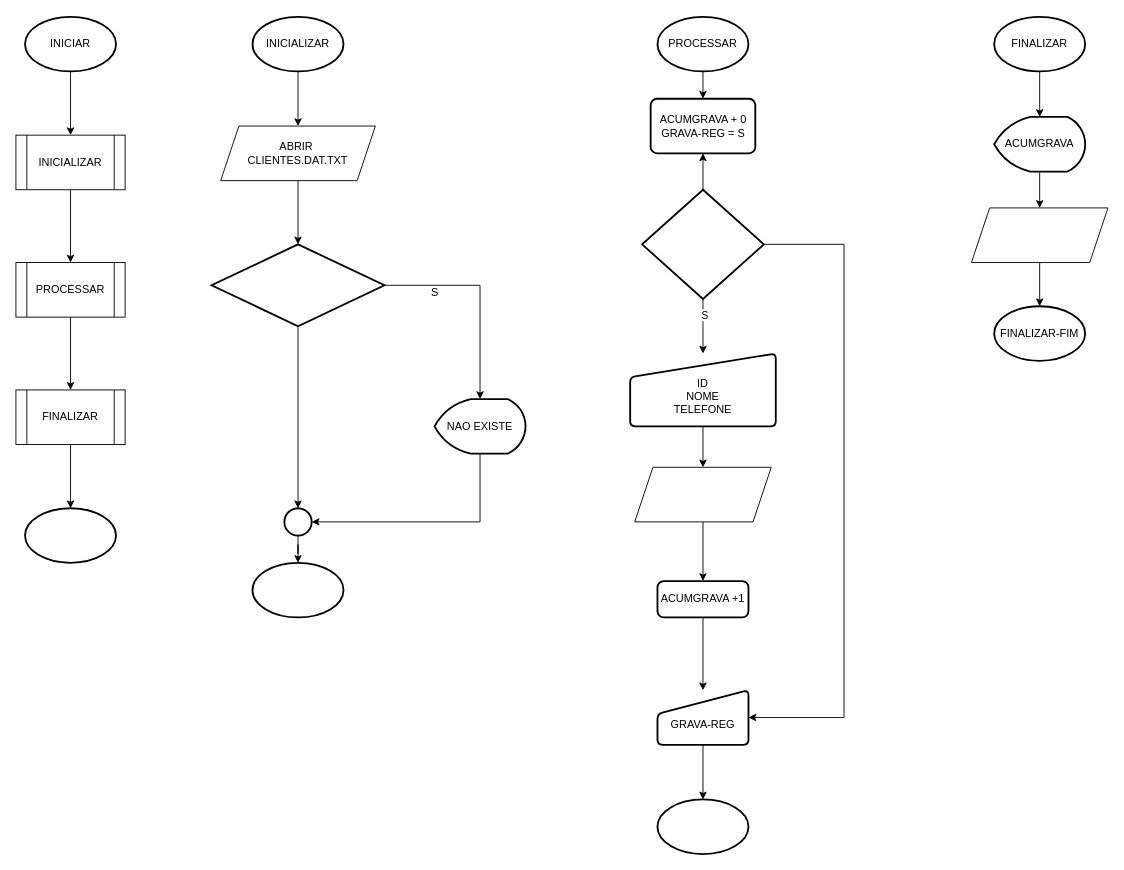
Some shapes in this 1124 by 870 pixel diagram are drawn without their labels. Each missing label, with the centre of its shape:
"CLIENTES.DAT.TXT EXISTE" belongs at pixel 297 285.
"FECHAR CLIENTES.DAT.TXT" belongs at pixel 1039 235.
"FIM" belongs at pixel 70 535.
"GRAVA-REG = S" belongs at pixel 702 243.
"GRAVAR CLIENTES" belongs at pixel 702 494.
"INICIALIZAR-FIM" belongs at pixel 297 589.
"PROCESSAR-FIM" belongs at pixel 702 826.
